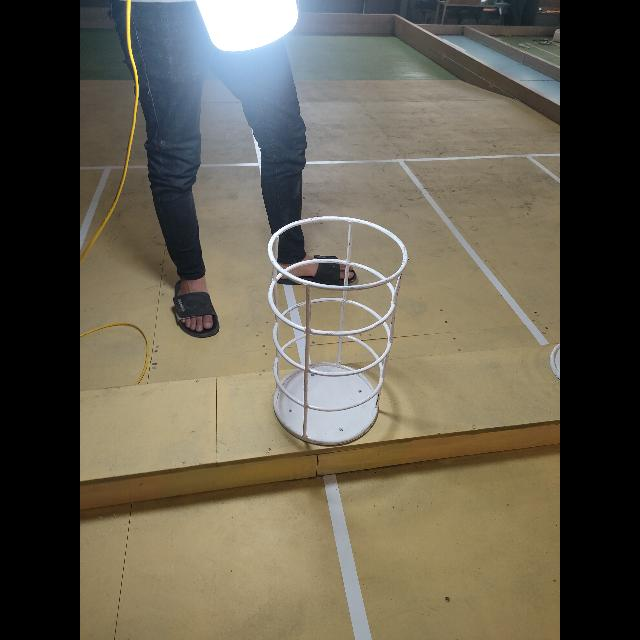S: (267, 211, 410, 448)
